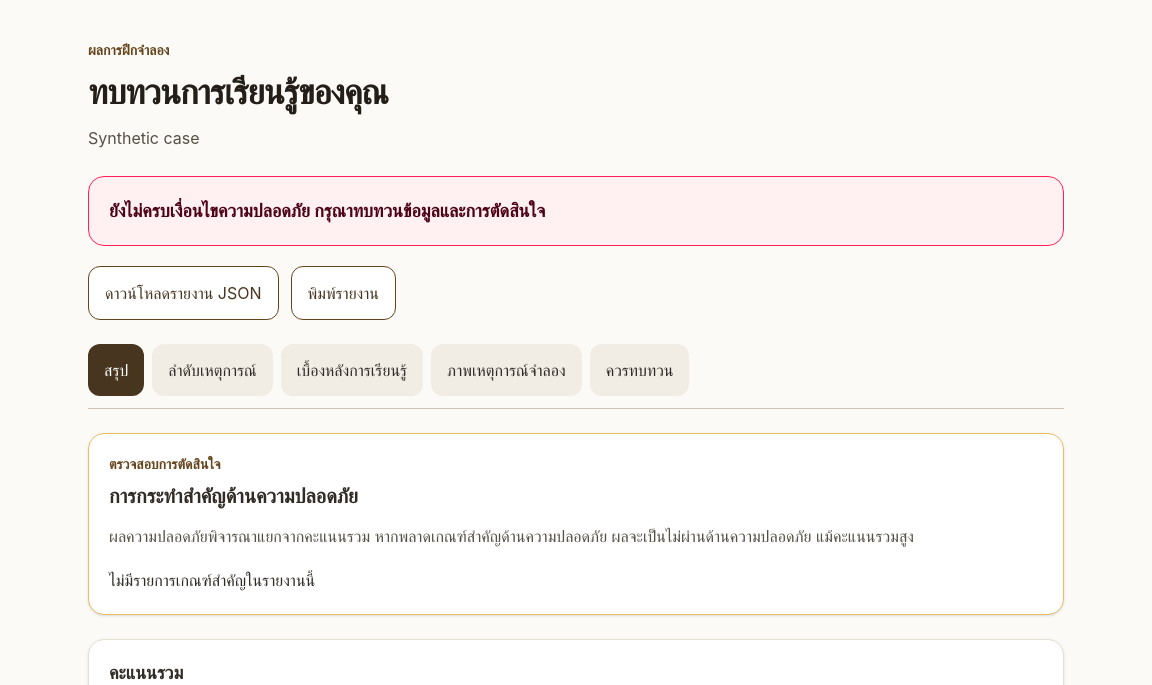
Test: T-054 Glass Box and Consequence Replay › does not claim there were no missed opportunities when UnsafeProceed markers are missing
The image size is (1152, 685).
Click the tab "ภาพเหตุการณ์จำลอง" at (506, 370), box [431,344,582,396]
(page scrolled)
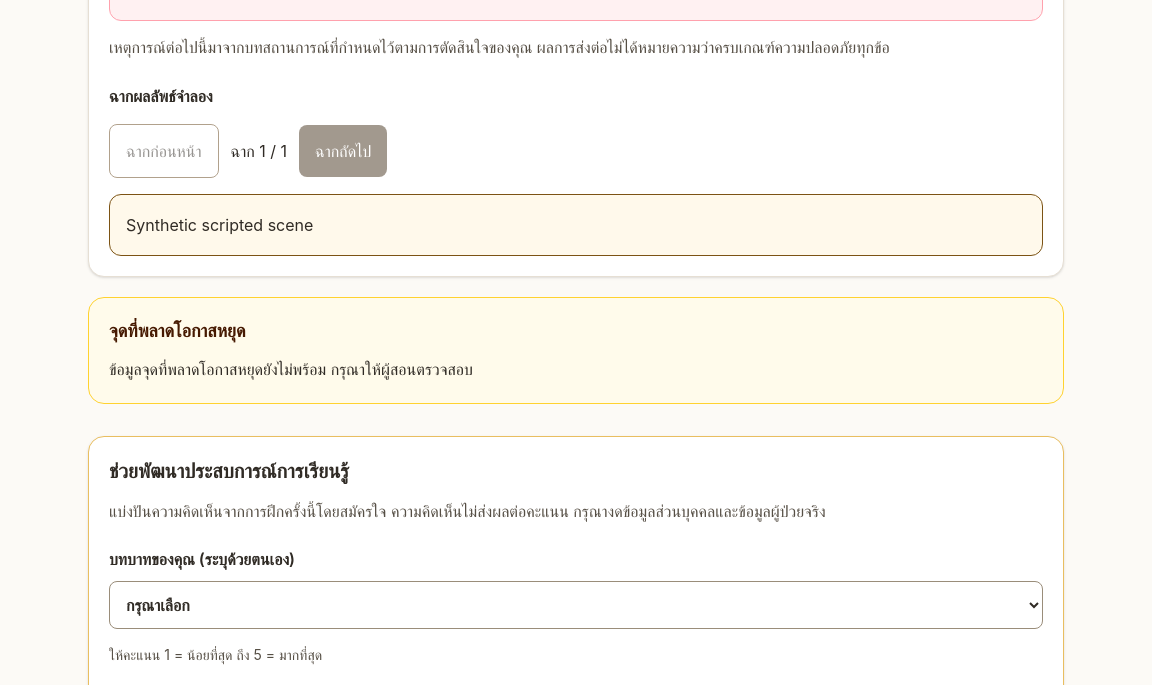
Expected: the text "ข้อมูลจุดที่พลาดโอกาสหยุดยังไม่พร้อม กรุณาให้ผู้สอนตรวจสอบ" is shown, [109,359,473,379]
